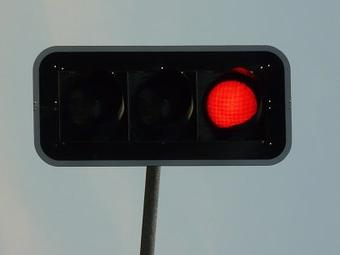trafic: (38, 53, 288, 155)
